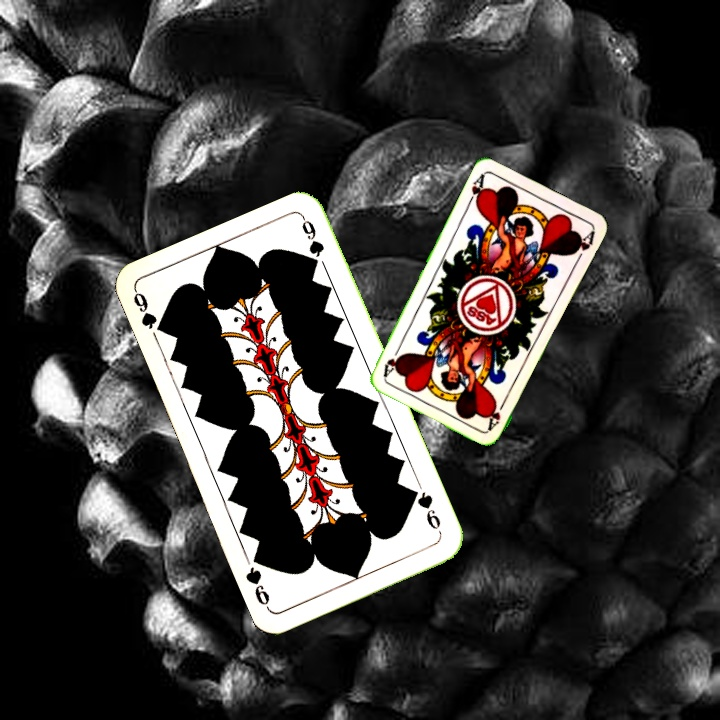G9: (407, 484, 445, 537), (129, 287, 166, 335)
HA: (463, 170, 488, 209), (484, 394, 509, 432)
